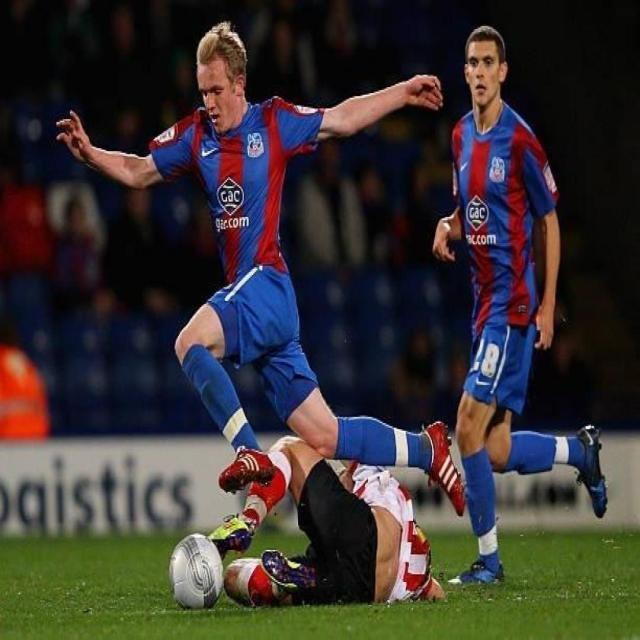ball: (161, 528, 224, 620)
player: (53, 24, 448, 494), (443, 23, 610, 597), (224, 431, 446, 611)
